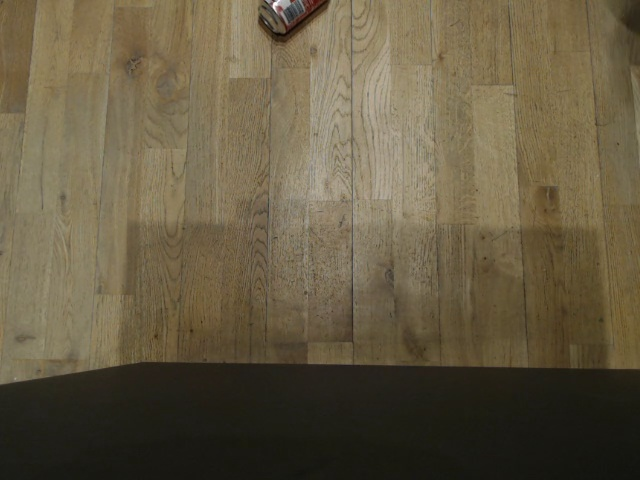cola: (254, 0, 329, 35)
